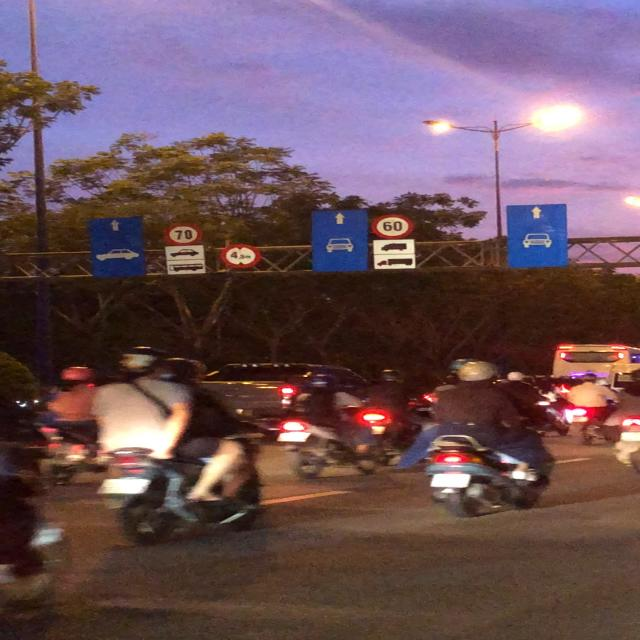Bien bao han che chieu cao: (220, 243, 262, 268)
Bien bao toc do toi da cho phep: (367, 212, 415, 238), (158, 220, 204, 245)
